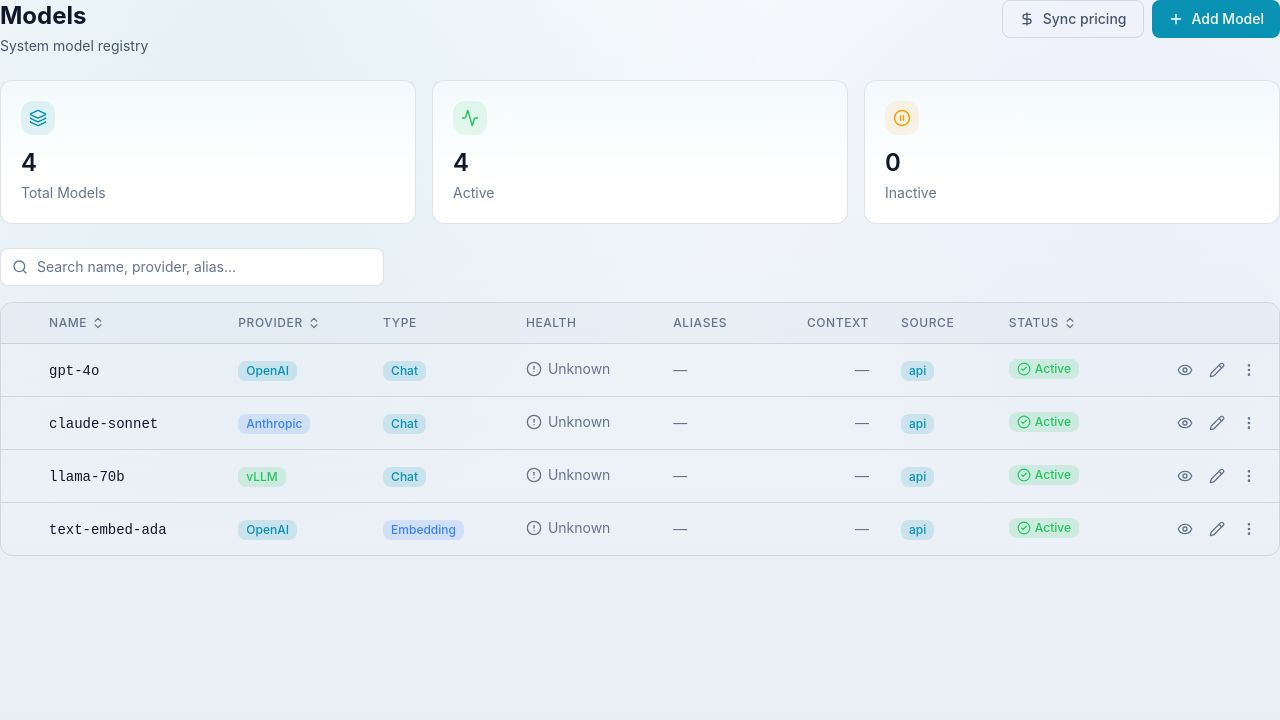
Test case: CreateModelDialog — Fallback Model field › when fallback_max_depth is 0 › disables the Fallback Model select when fallback is disabled in server config
Click the button "Add Model".
click(1216, 19)  # box [1152,0,1279,38]
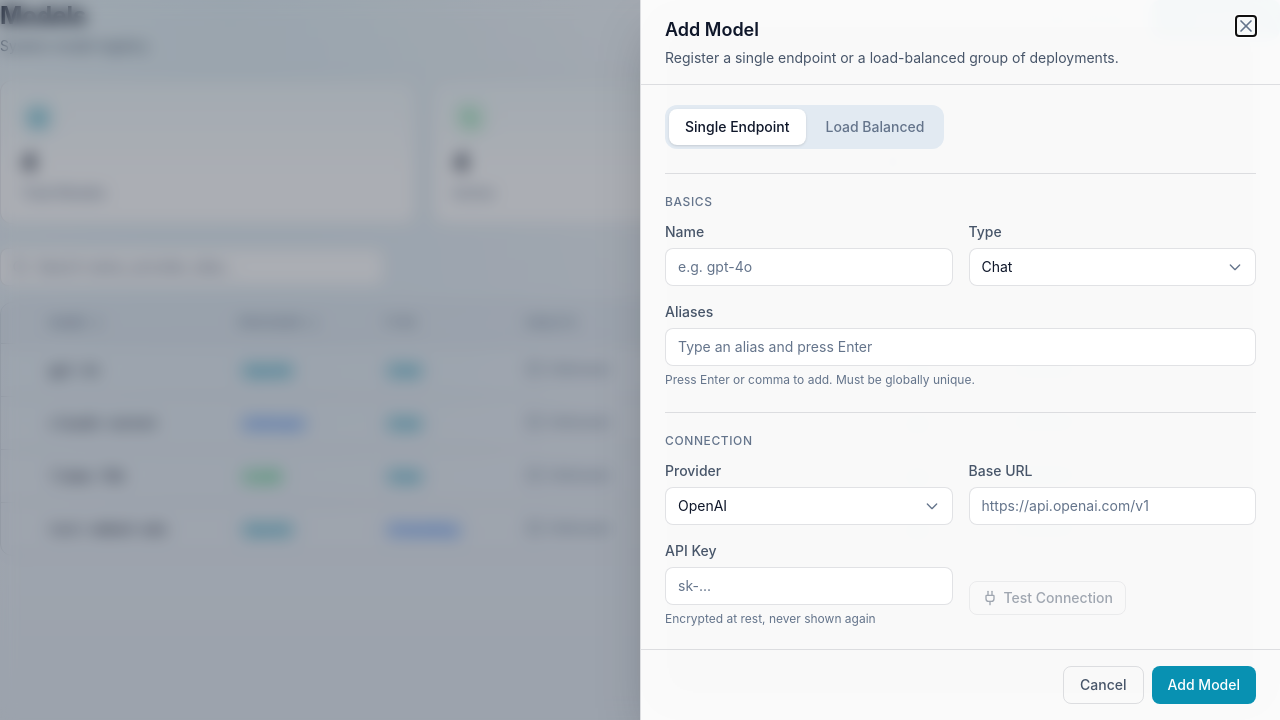
Click the tab "Load Balanced".
click(875, 127)  # box [810,109,940,145]
(page scrolled)
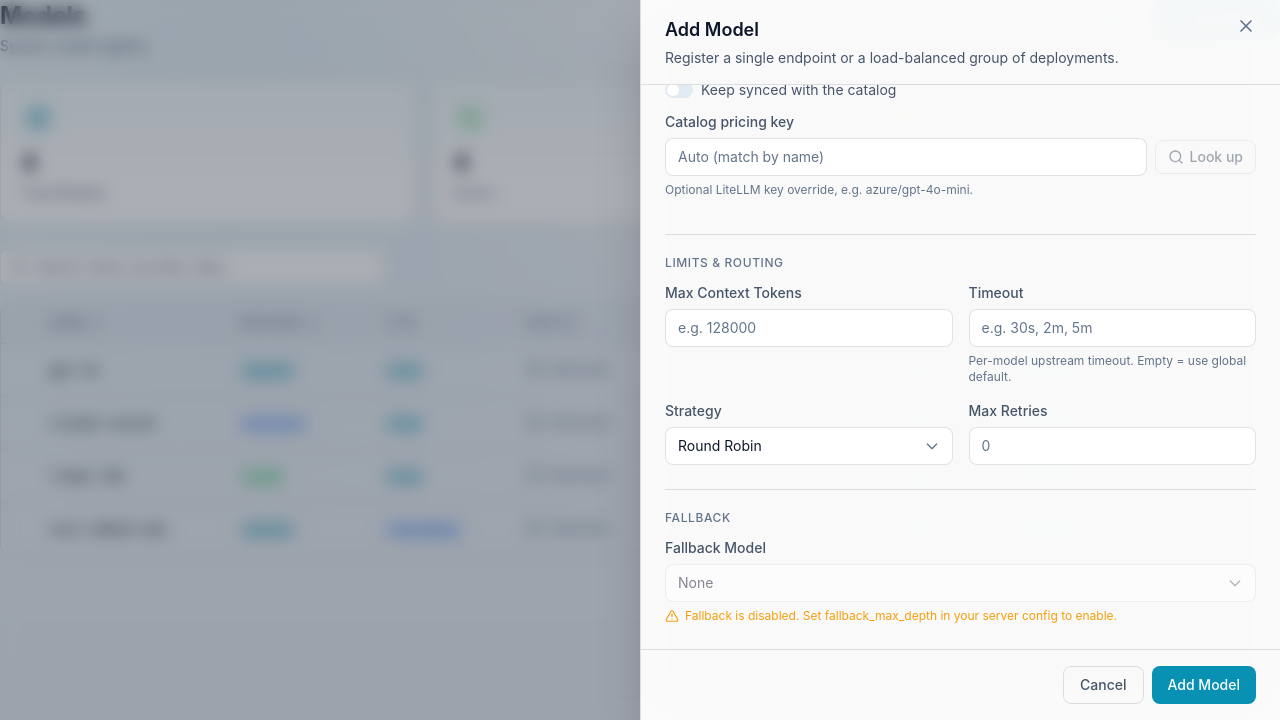
Result: the dropdown labelled "None" is disabled at [665,564,1256,602]
